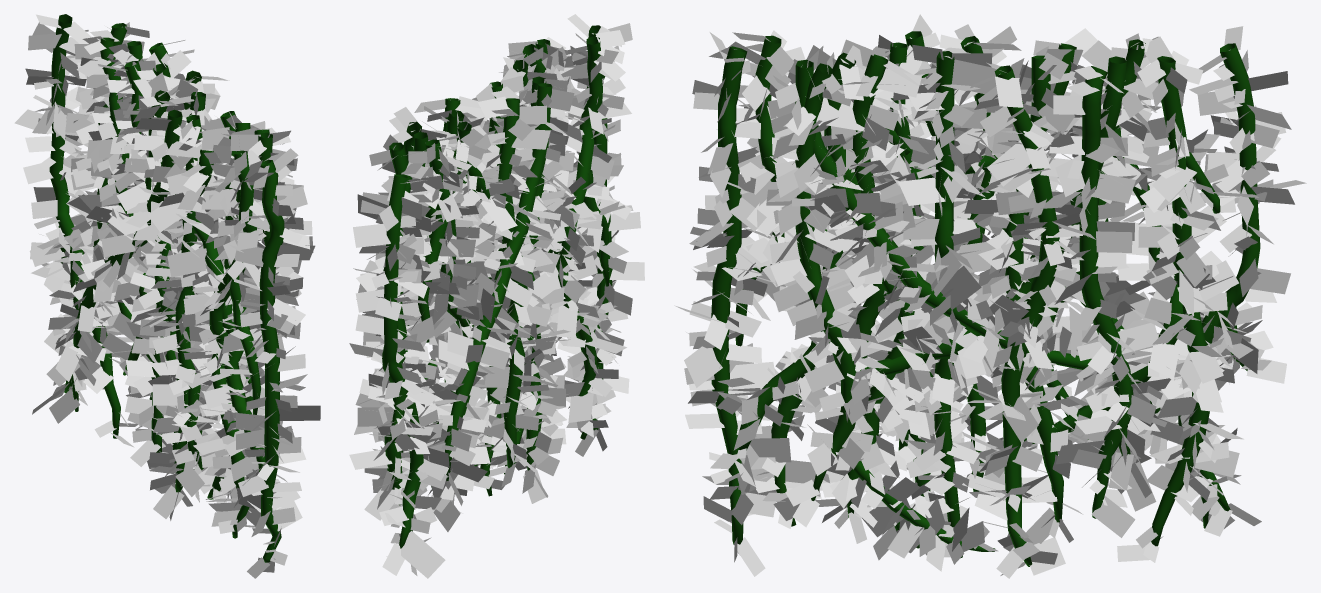
Rendered from vines.fbx.
3 views of the same model, side by side, from view 1: azimuth 30°, elevation 25°; view 2: azimuth 150°, elevation 25°; view 3: azimuth 270°, elevation 25° (orthographic). The views are drawn at different scales.
Parts seen in each view (by area): view 1: leaf png.001, GP_Layer; view 2: leaf png.001, GP_Layer; view 3: leaf png.001, GP_Layer.
Part boxes in pixels (x1,y1,x2,y2): leaf png.001: [14, 14, 320, 578]; GP_Layer: [49, 14, 284, 562]; leaf png.001: [349, 14, 644, 578]; GP_Layer: [382, 25, 612, 548]; leaf png.001: [674, 14, 1306, 578]; GP_Layer: [711, 31, 1260, 566].
Size of the model in its own units: 487 by 1591 by 1710.
